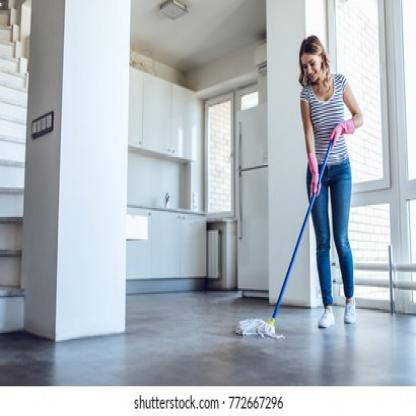with_gloves: (306, 152, 322, 196), (330, 120, 355, 147)
